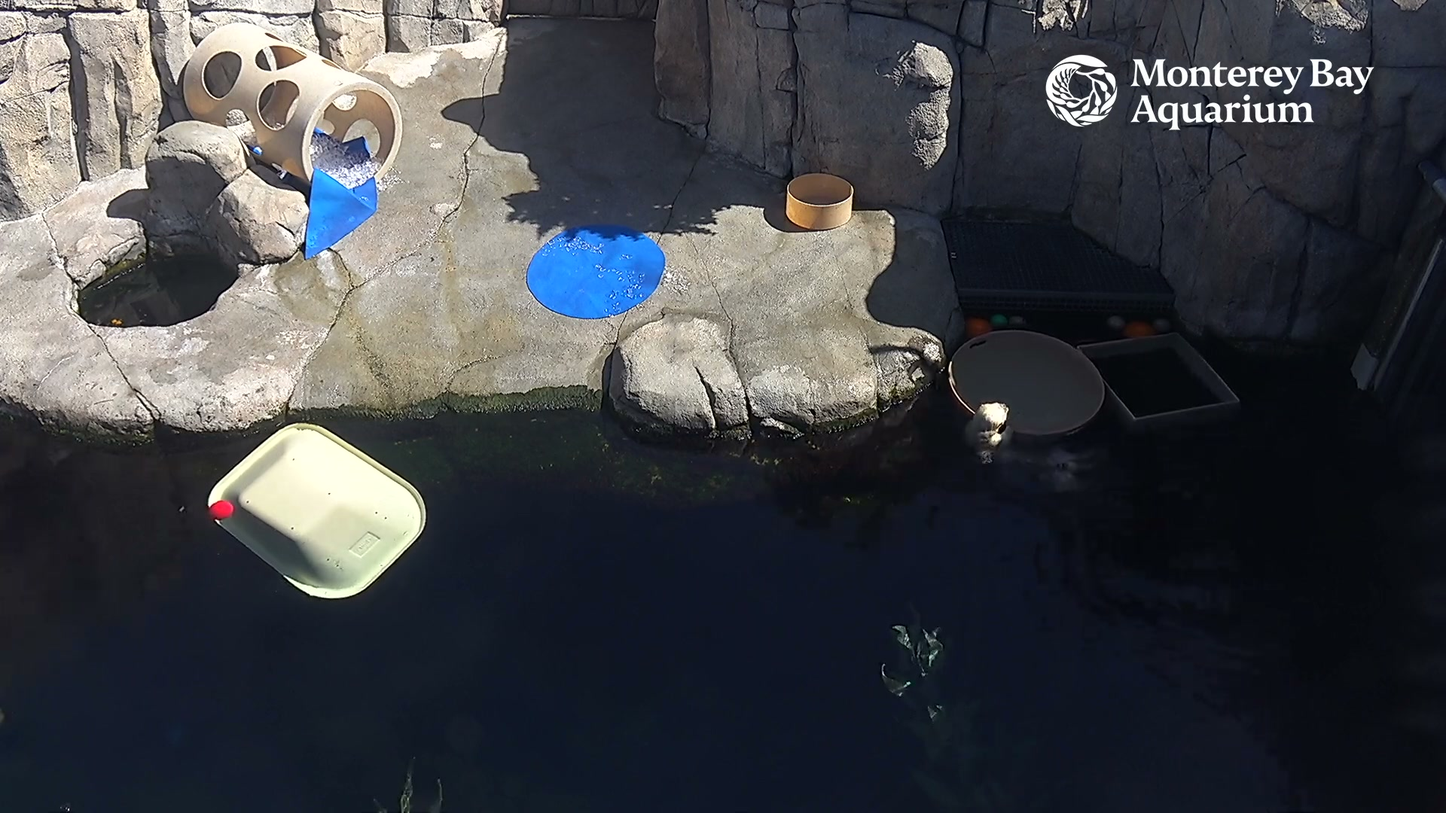Southern Sea Otter: (967, 383, 1024, 474)
